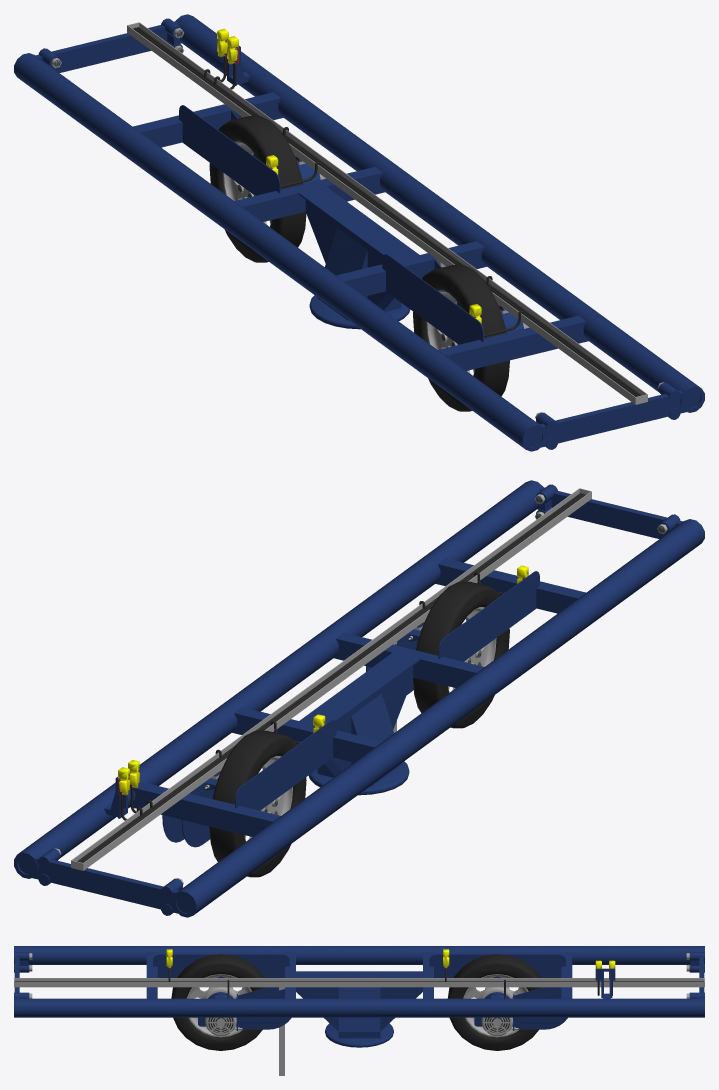
File: Transport (End Sensor).dae
3 renders of one model, top to bottom at view 1: azimuth 30°, elevation 25°; view 2: azimuth 150°, elevation 25°; view 3: azimuth 270°, elevation 25°, orthographic. The views are drawn at different scales.
Visible parts, largest first — view 1: Track (×8), Mid_Detail (×4), wheel0, wheel1, High_Detail (×2); view 2: Track (×8), Mid_Detail (×4), High_Detail (×3), wheel1, wheel0; view 3: Track (×8), Mid_Detail (×4), High_Detail (×6), wheel0 (×3), wheel1 (×3).
Boxes of the visible parts, x1,y1,x2,y2 form: Track (×8): (14, 14, 704, 451); Mid_Detail (×4): (127, 22, 647, 404); wheel0: (413, 264, 509, 411); wheel1: (209, 115, 306, 262); High_Detail (×2): (134, 27, 641, 396); Track (×8): (14, 480, 704, 917); Mid_Detail (×4): (71, 488, 591, 870); High_Detail (×3): (77, 493, 584, 862); wheel1: (209, 730, 306, 877); wheel0: (413, 581, 509, 728); Track (×8): (14, 946, 704, 1047); Mid_Detail (×4): (14, 954, 704, 1075); High_Detail (×6): (14, 968, 704, 1034); wheel0 (×3): (171, 954, 266, 1050); wheel1 (×3): (447, 954, 542, 1050).
Bounding box in the file's own units: 40.76 × 197 × 37.52.
9 materials, 3 textured.
